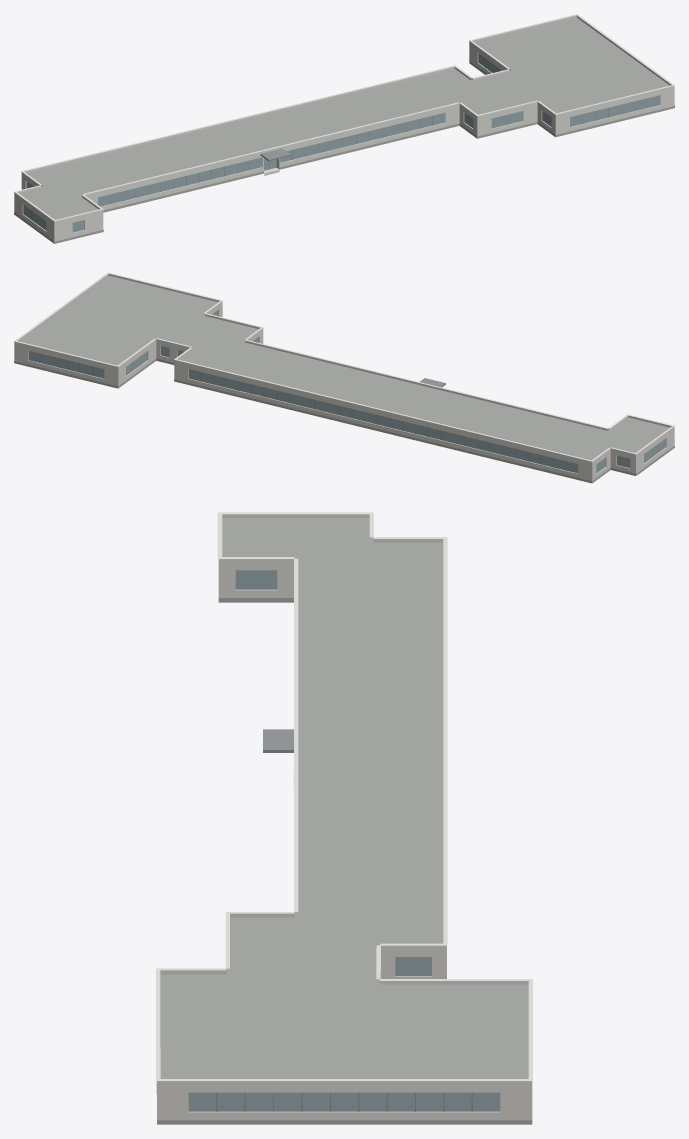
The picture shows the model from 3 angles, top to bottom: view 1: azimuth 30°, elevation 25°; view 2: azimuth 150°, elevation 25°; view 3: azimuth 270°, elevation 25°; orthographic projection. The views are drawn at different scales.
Visible parts, largest first — view 1: b115951808__roof, b115951808__wall, b115951808__glass, b115951808__parapet, b115951808__trim, b115951808__base, b115951808__frame; view 2: b115951808__roof, b115951808__wall, b115951808__glass, b115951808__parapet, b115951808__trim, b115951808__base, b115951808__frame; view 3: b115951808__roof, b115951808__wall, b115951808__trim, b115951808__glass, b115951808__parapet, b115951808__base.
Part boxes in pixels (x1=…): b115951808__roof: x1=19, y1=17, x2=669, y2=219; b115951808__wall: x1=14, y1=42, x2=674, y2=243; b115951808__glass: x1=23, y1=53, x2=659, y2=232; b115951808__parapet: x1=14, y1=15, x2=674, y2=222; b115951808__trim: x1=14, y1=14, x2=674, y2=221; b115951808__base: x1=14, y1=61, x2=674, y2=243; b115951808__frame: x1=31, y1=59, x2=647, y2=219; b115951808__roof: x1=19, y1=275, x2=669, y2=460; b115951808__wall: x1=14, y1=303, x2=674, y2=482; b115951808__glass: x1=28, y1=310, x2=665, y2=473; b115951808__parapet: x1=14, y1=274, x2=674, y2=463; b115951808__trim: x1=14, y1=272, x2=674, y2=461; b115951808__base: x1=14, y1=358, x2=674, y2=483; b115951808__frame: x1=41, y1=354, x2=658, y2=470; b115951808__roof: x1=160, y1=518, x2=528, y2=1078; b115951808__wall: x1=156, y1=562, x2=532, y2=1120; b115951808__trim: x1=156, y1=512, x2=532, y2=1081; b115951808__glass: x1=188, y1=570, x2=500, y2=1111; b115951808__parapet: x1=157, y1=514, x2=532, y2=1084; b115951808__base: x1=157, y1=598, x2=532, y2=1124.
Bounding box in the file's own units: 110 × 4.35 × 30.84.
